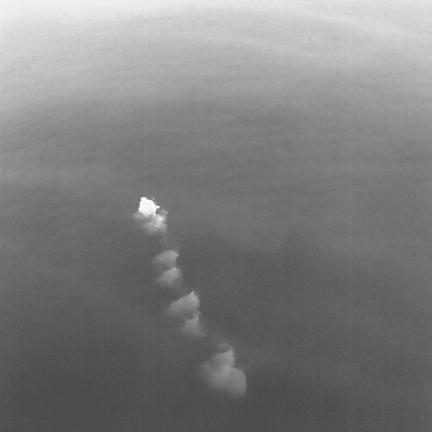flukeprints: (200, 347, 246, 397), (169, 291, 199, 315), (155, 267, 182, 289), (152, 250, 178, 271), (144, 213, 165, 233), (138, 197, 159, 217), (183, 316, 202, 337)
